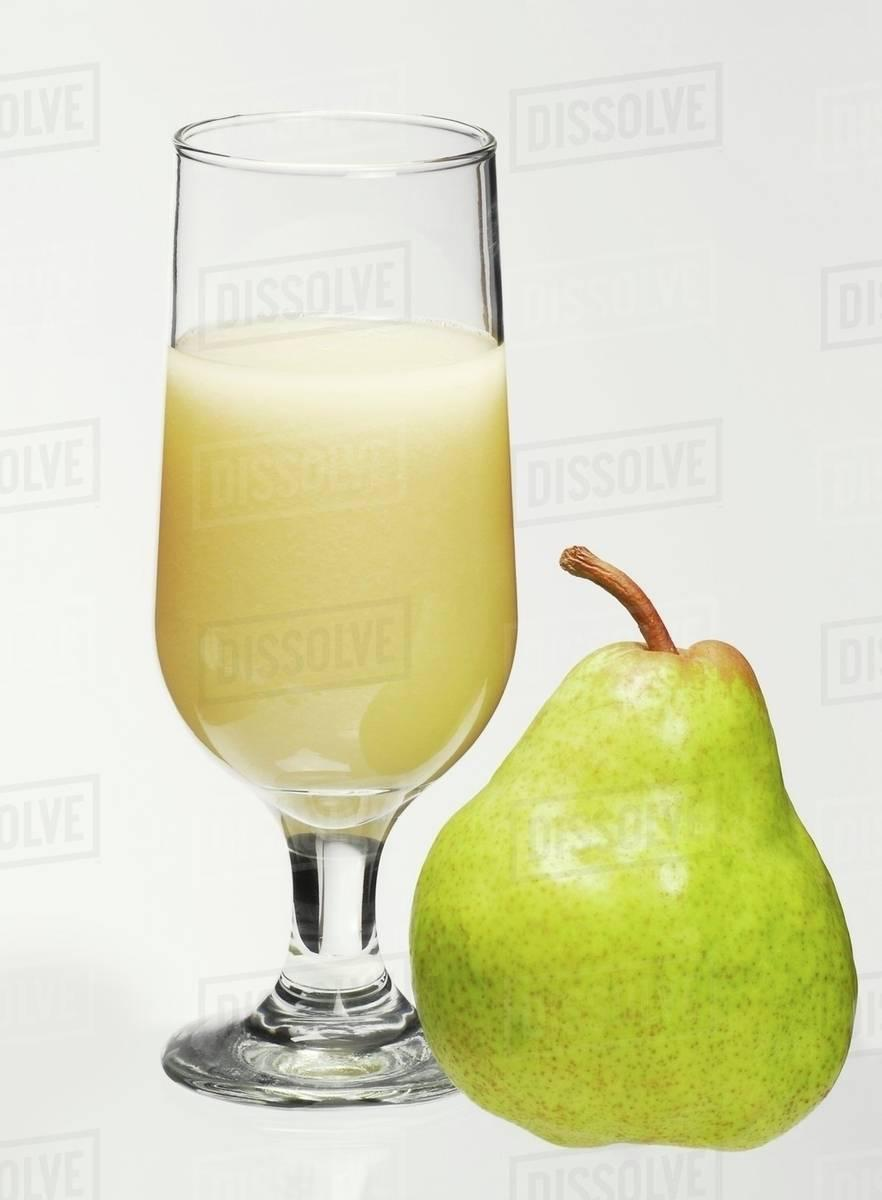glass-wine: (148, 111, 524, 1127)
